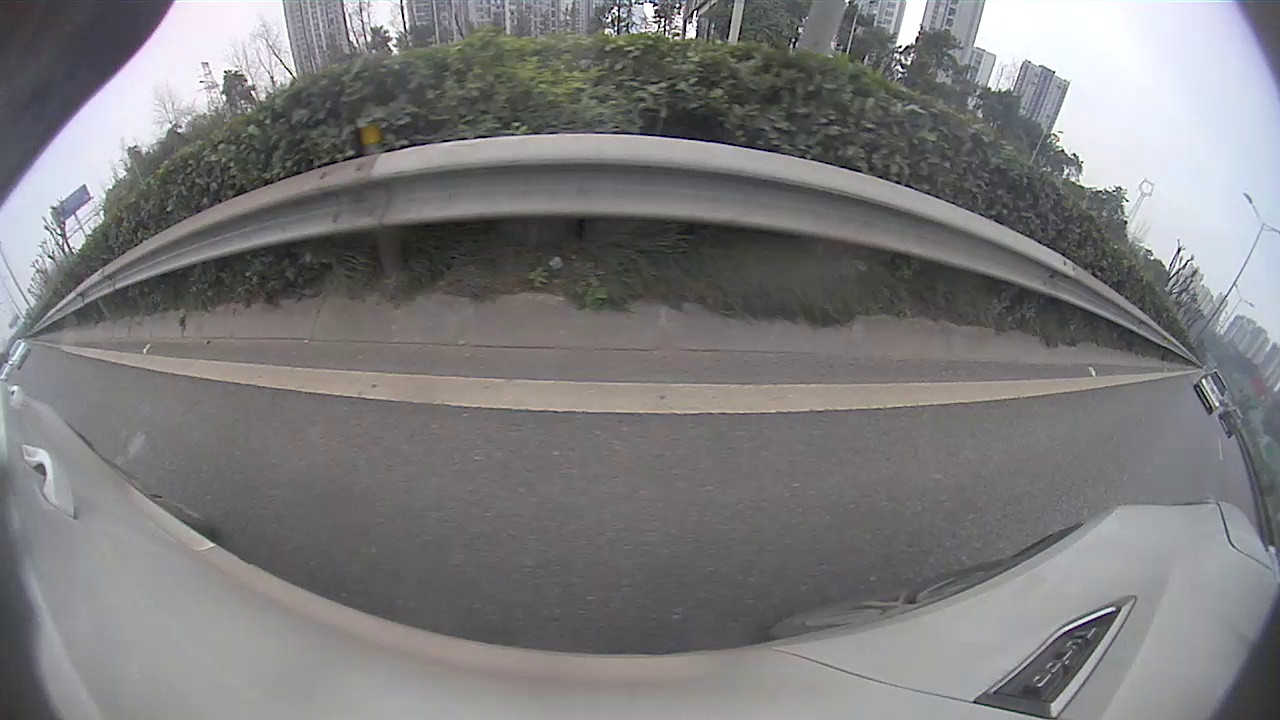car: (1196, 370, 1226, 415), (10, 341, 32, 369)
